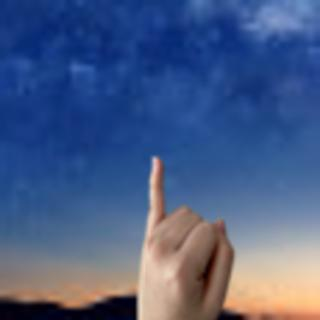FINE: (134, 153, 238, 320)
